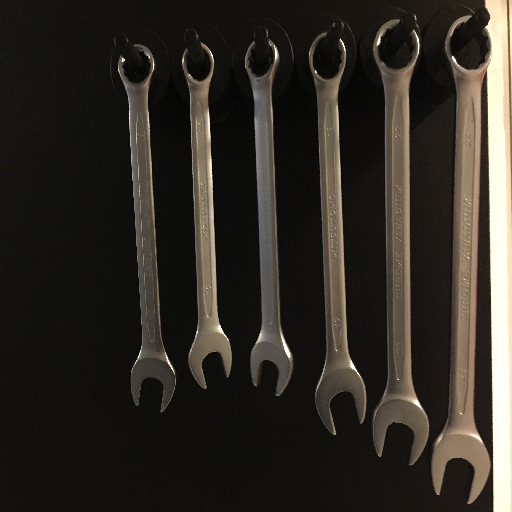bottom: (431, 426, 492, 504), (372, 396, 432, 466), (313, 361, 368, 437), (249, 329, 296, 398), (129, 349, 178, 414), (187, 326, 234, 390)
top: (440, 12, 496, 82), (370, 15, 421, 82), (305, 29, 350, 87), (241, 38, 283, 85), (116, 42, 157, 90), (180, 41, 217, 87)
